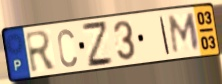3: (112, 19, 136, 62)
C: (56, 27, 78, 69)
I: (158, 15, 172, 56)
M: (168, 11, 201, 56)
R: (24, 28, 59, 75)
Z: (80, 21, 115, 70)
